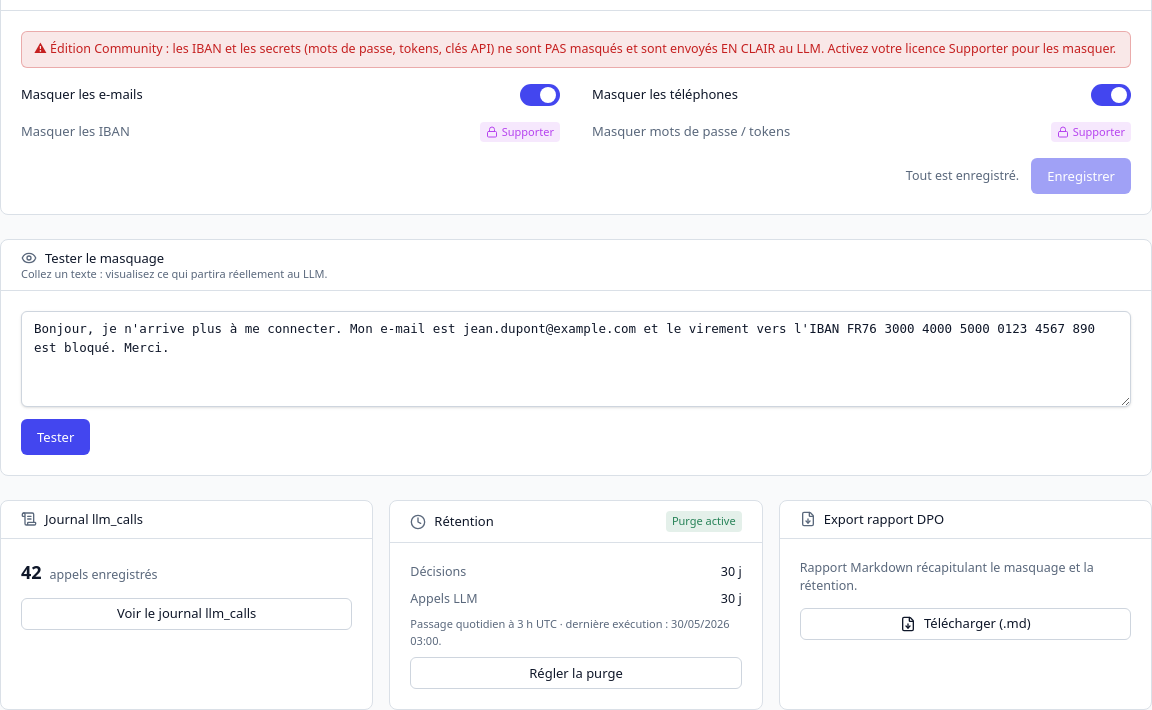
Privacy › annonce « aucun remplacement » quand le texte ressort IDENTIQUE
The image size is (1152, 710).
(page scrolled)
Step 1. Replace the text in the text box with "rien a masquer" → coordinates (576, 359), box 21,311 -> 1131,407
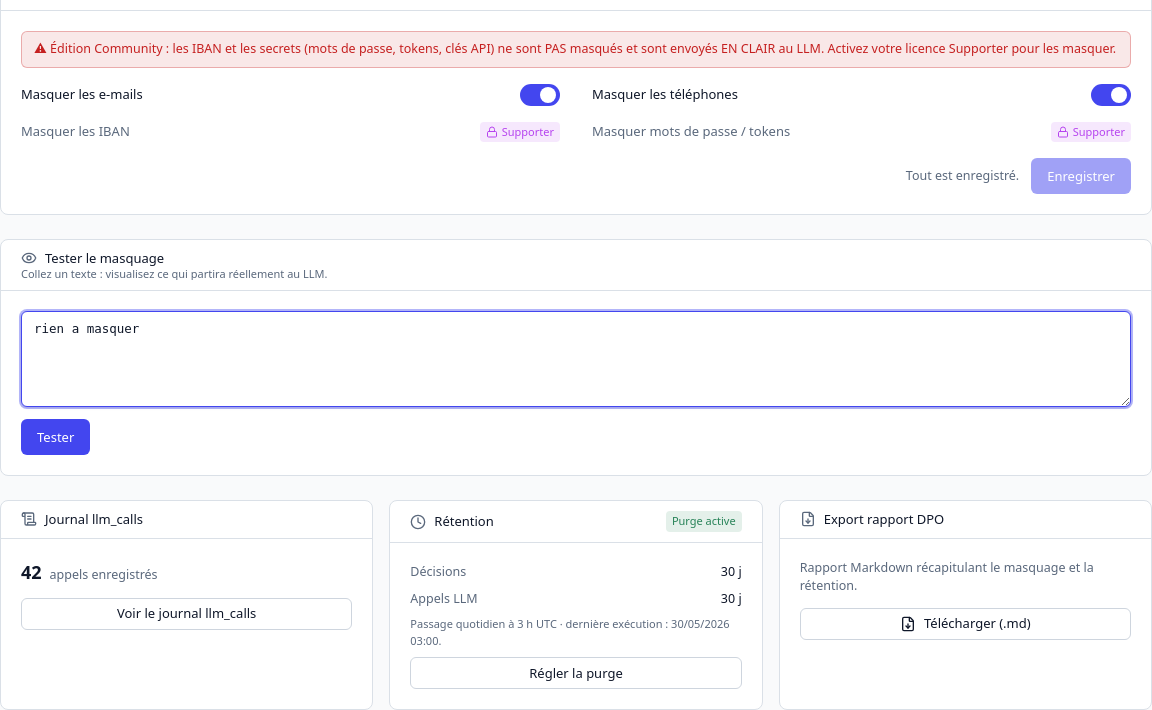
Step 2. Click the button "Tester" → coordinates (56, 437), box 21,419 -> 90,455
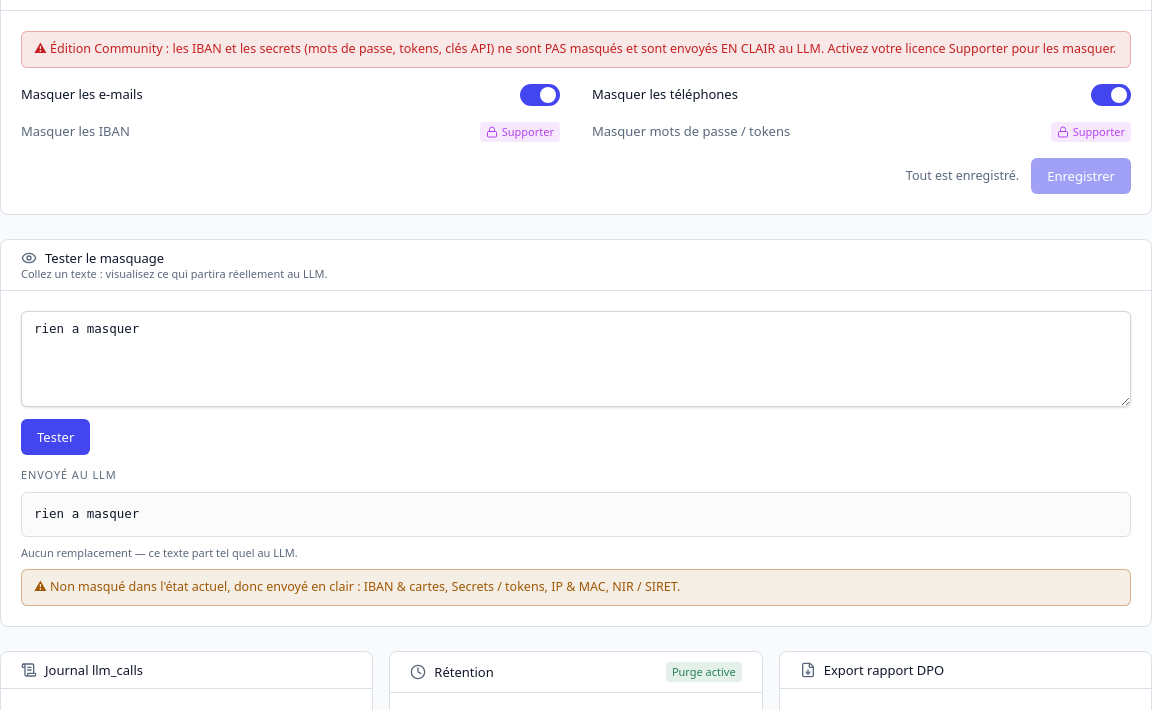
Result: the text "Aucun remplacement — ce texte part tel quel au LLM." is shown at 21,544 -> 298,560
